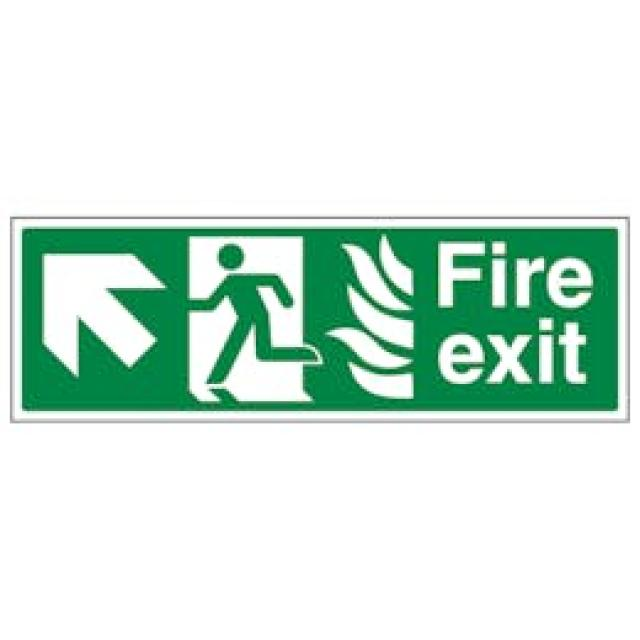exit_sign: (7, 210, 640, 423)
